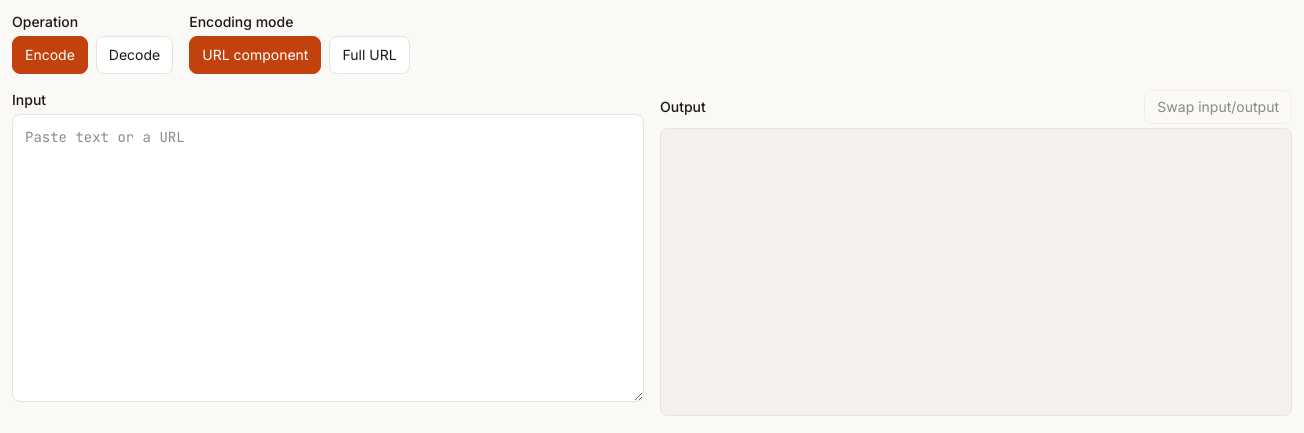
Test: UrlEncoderDecoder › preserves URL separators in full URL mode
The width and height of the screenshot is (1304, 433).
Step 1. Click the button "Full URL" → [369, 55], box [329, 36, 410, 74]
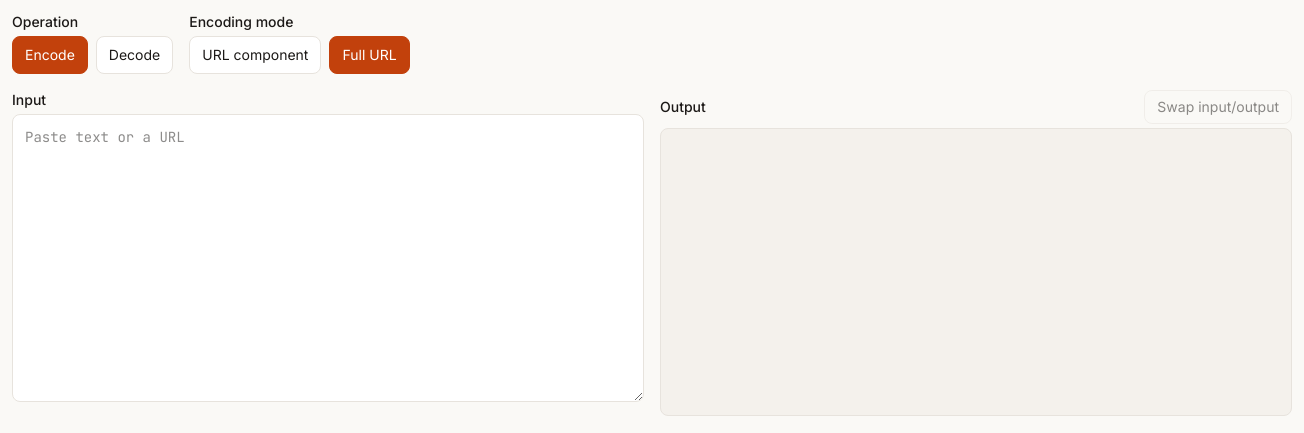
Step 2. Type "https://example.com/a path?q=hello world" into the text box labelled "Input" → [328, 258], box [12, 114, 644, 402]
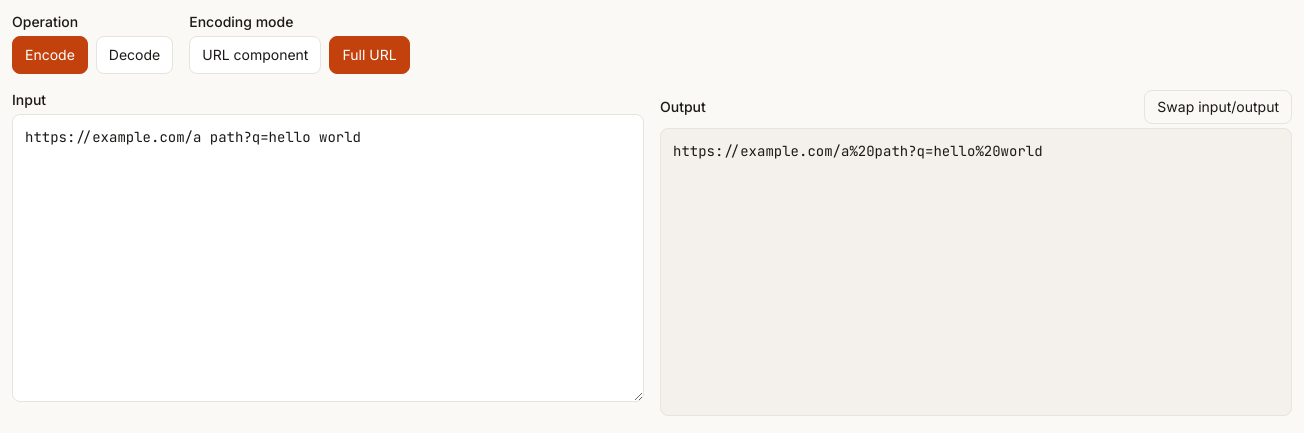
Result: the text named "Output" reads "https://example.com/a%20path?q=hello%20world" at [673, 142, 1043, 160]
